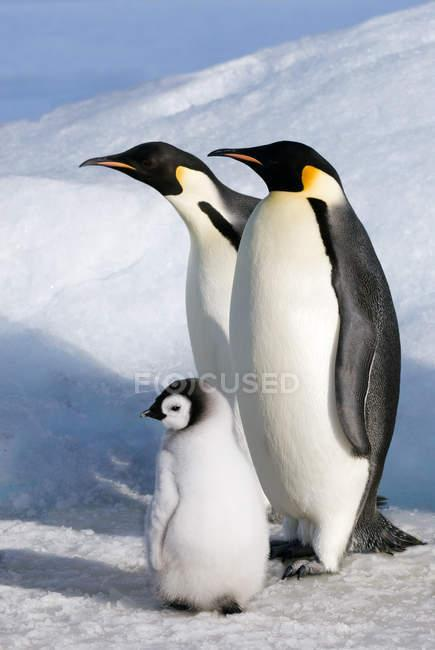emporer: (196, 127, 426, 592)
